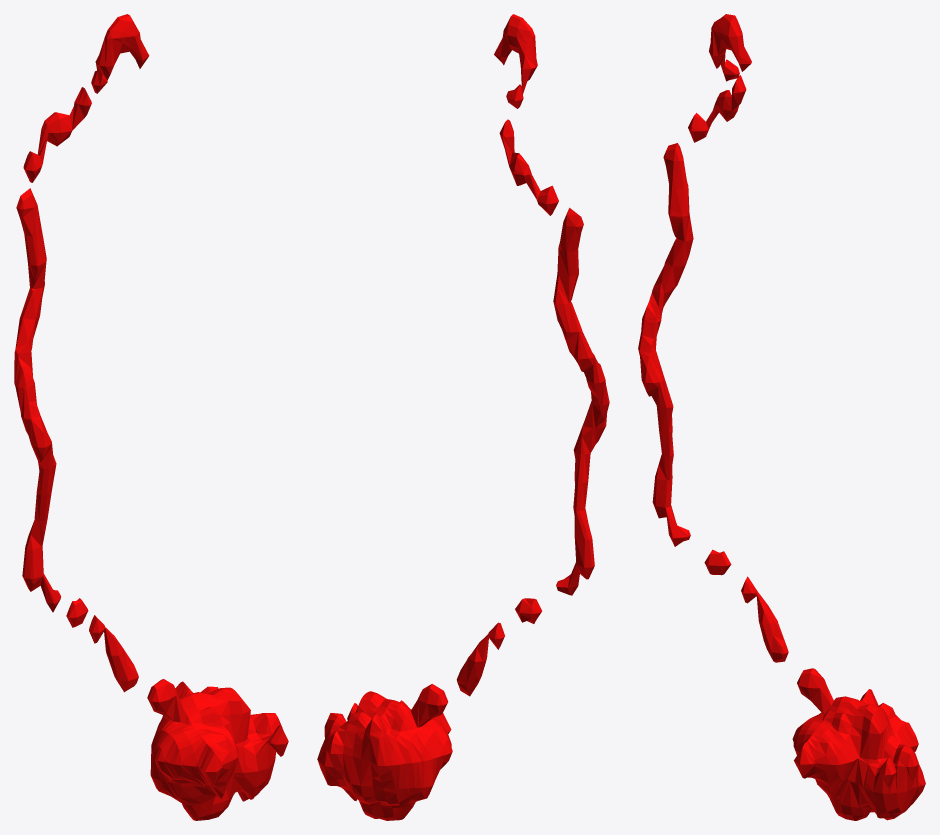
Rendered from aas_coarse.dae.
The picture shows the model from 3 angles, left to right: view 1: azimuth 30°, elevation 25°; view 2: azimuth 150°, elevation 25°; view 3: azimuth 330°, elevation 25°; orthographic projection. The views are drawn at different scales.
Visible parts, largest first — view 1: aas; view 2: aas; view 3: aas.
Part boxes in pixels (left/top/right/bottom): aas: left=14, top=14, right=288, bottom=820; aas: left=317, top=14, right=609, bottom=820; aas: left=638, top=14, right=925, bottom=820.
Size of the model in its own units: 165 by 478 by 62.56.
